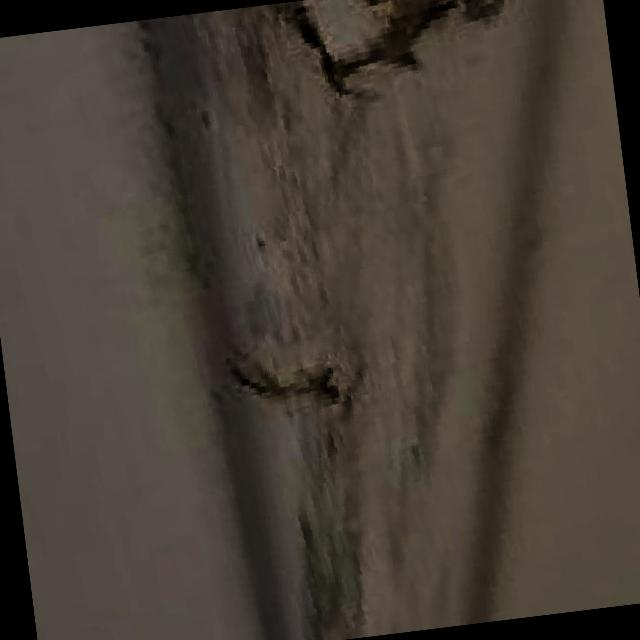crack: (287, 0, 481, 101), (232, 362, 338, 411)
